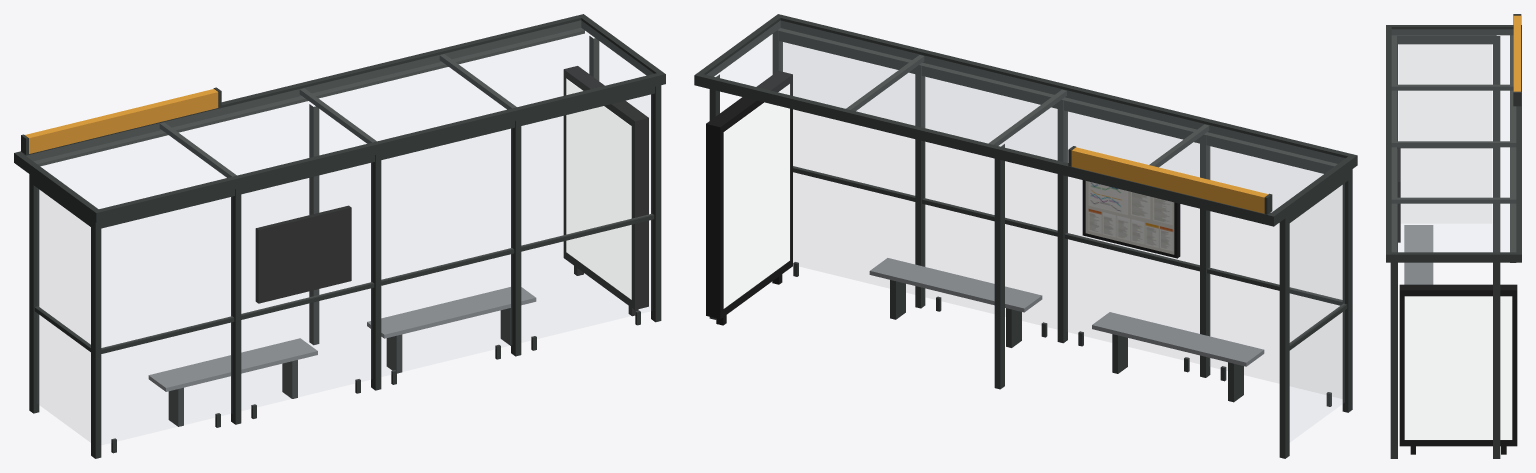
Rendered from wall_shelter_long.glb.
3 views of the same model, side by side, from view 1: azimuth 30°, elevation 25°; view 2: azimuth 150°, elevation 25°; view 3: azimuth 270°, elevation 25° (orthographic). The views are drawn at different scales.
Visible parts, largest first — view 1: Shelter; view 2: Shelter; view 3: Shelter.
Boxes of the visible parts, x1,y1,x2,y2 form: Shelter: (14,14,665,458); Shelter: (694,14,1357,458); Shelter: (1386,14,1521,458).
Size of the model in its own units: 6 by 2.66 by 1.5.
8 materials, 1 textured.
